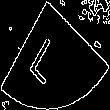L_NE: (35, 25, 75, 85)
